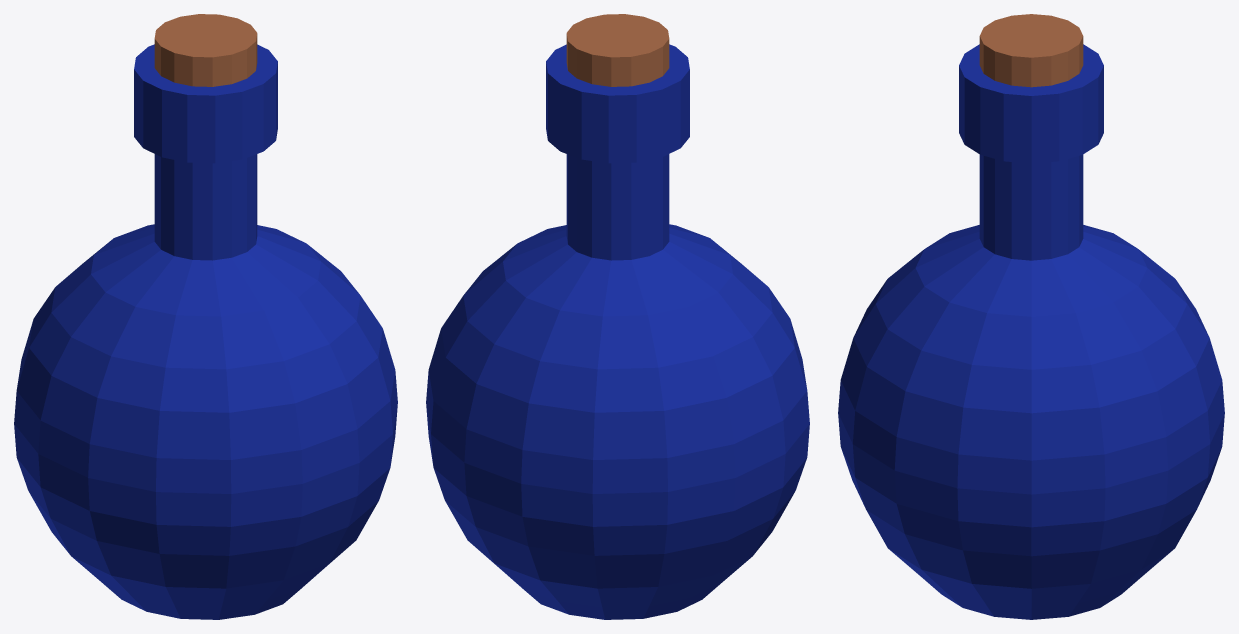
File: flask_1.obj
3 views of the same model, side by side, from view 1: azimuth 30°, elevation 25°; view 2: azimuth 150°, elevation 25°; view 3: azimuth 270°, elevation 25° (orthographic).
Parts seen in each view (by area): view 1: flask_1; view 2: flask_1; view 3: flask_1.
Boxes of the visible parts, box(x1,y1,x2,y2) form: flask_1: box(14, 14, 397, 619); flask_1: box(426, 14, 809, 619); flask_1: box(838, 14, 1224, 619).
Size of the model in its own units: 0.0994 by 0.1542 by 0.0994.
